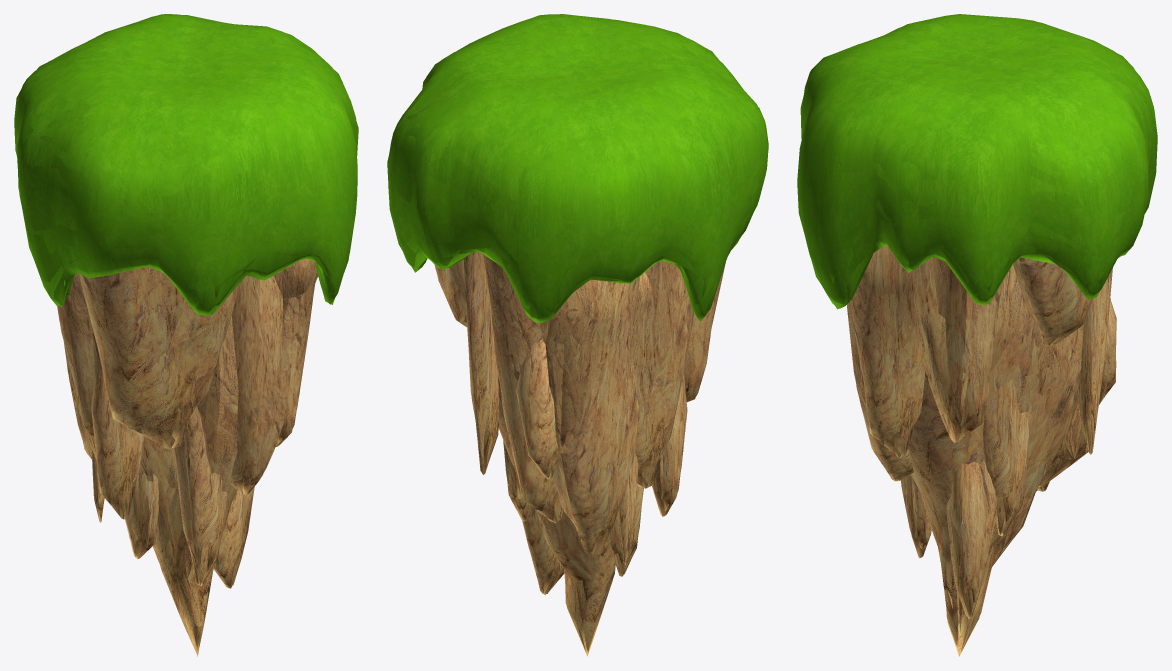
Rendered from Floating_Garden3LOD.fbx.
The picture shows the model from 3 angles, left to right: view 1: azimuth 30°, elevation 25°; view 2: azimuth 150°, elevation 25°; view 3: azimuth 270°, elevation 25°; orthographic projection. The views are drawn at different scales.
Visible parts, largest first — view 1: Floating_Land_3.LOD1, Floating_Land_3.LOD2; view 2: Floating_Land_3.LOD1, Floating_Land_3.LOD2; view 3: Floating_Land_3.LOD1, Floating_Land_3.LOD2.
Part boxes in pixels (x1,y1,x2,y2): Floating_Land_3.LOD1: (15,14,357,647); Floating_Land_3.LOD2: (14,14,358,656); Floating_Land_3.LOD1: (387,14,768,652); Floating_Land_3.LOD2: (387,14,768,656); Floating_Land_3.LOD1: (798,14,1156,651); Floating_Land_3.LOD2: (797,14,1157,656).
Bounding box in the file's own units: 24.77 × 46.35 × 25.07.
